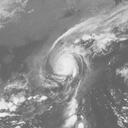cyclone: (43, 47, 82, 89)
